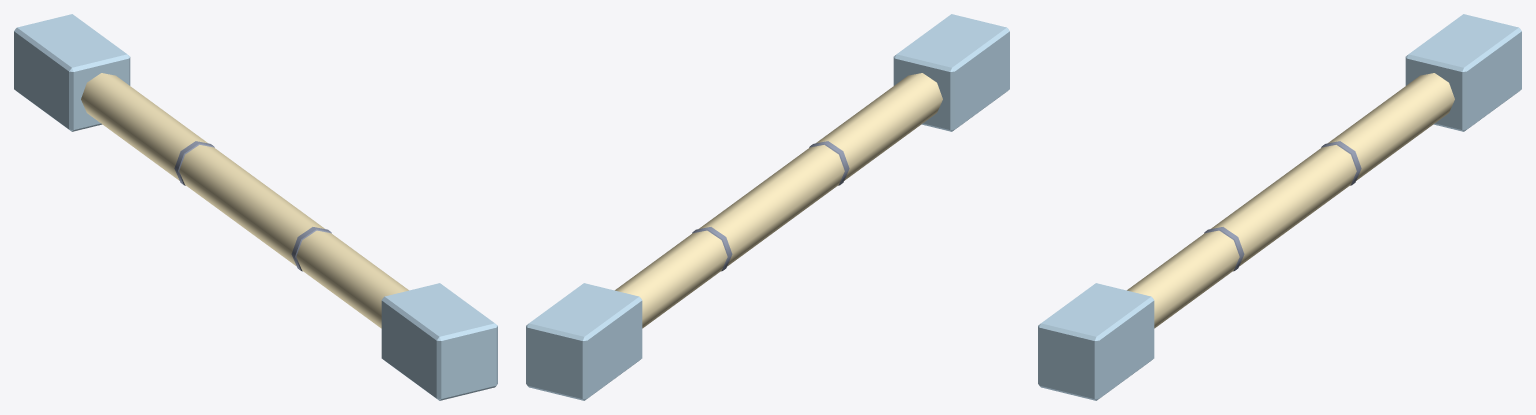
The model's file is R4C_ROD_LONG_LOD1.glb.
3 views of the same model, side by side, from view 1: azimuth 30°, elevation 25°; view 2: azimuth 150°, elevation 25°; view 3: azimuth 330°, elevation 25° (orthographic).
Visible parts, largest first — view 1: R4C_ROD_LONG_LOD1; view 2: R4C_ROD_LONG_LOD1; view 3: R4C_ROD_LONG_LOD1.
Part boxes in pixels (x1=…): R4C_ROD_LONG_LOD1: x1=14, y1=14, x2=497, y2=400; R4C_ROD_LONG_LOD1: x1=526, y1=14, x2=1009, y2=400; R4C_ROD_LONG_LOD1: x1=1038, y1=14, x2=1521, y2=400.
Size of the model in its own units: 0.226 by 0.226 by 2.72.
